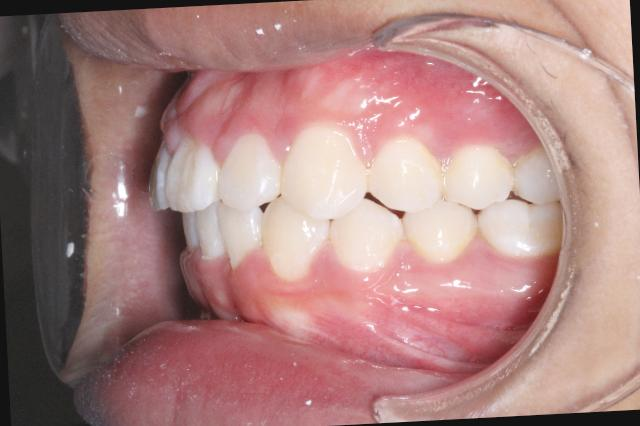canine class I: (253, 120, 404, 291)
